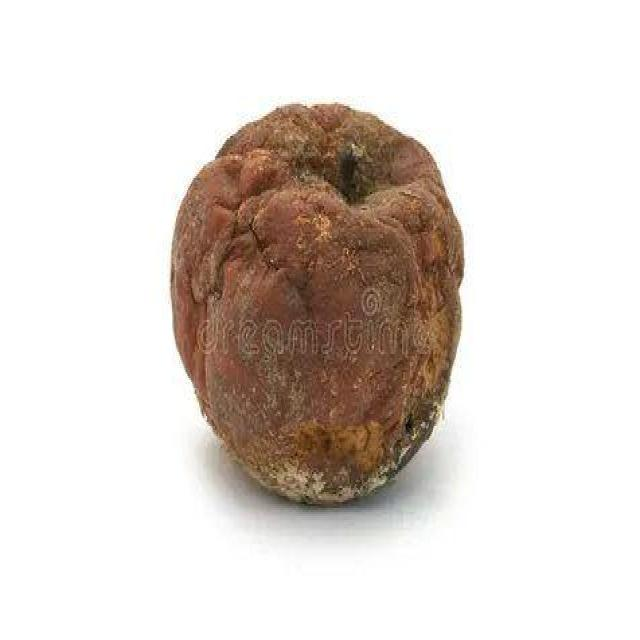rotten apple: (138, 75, 510, 544)
